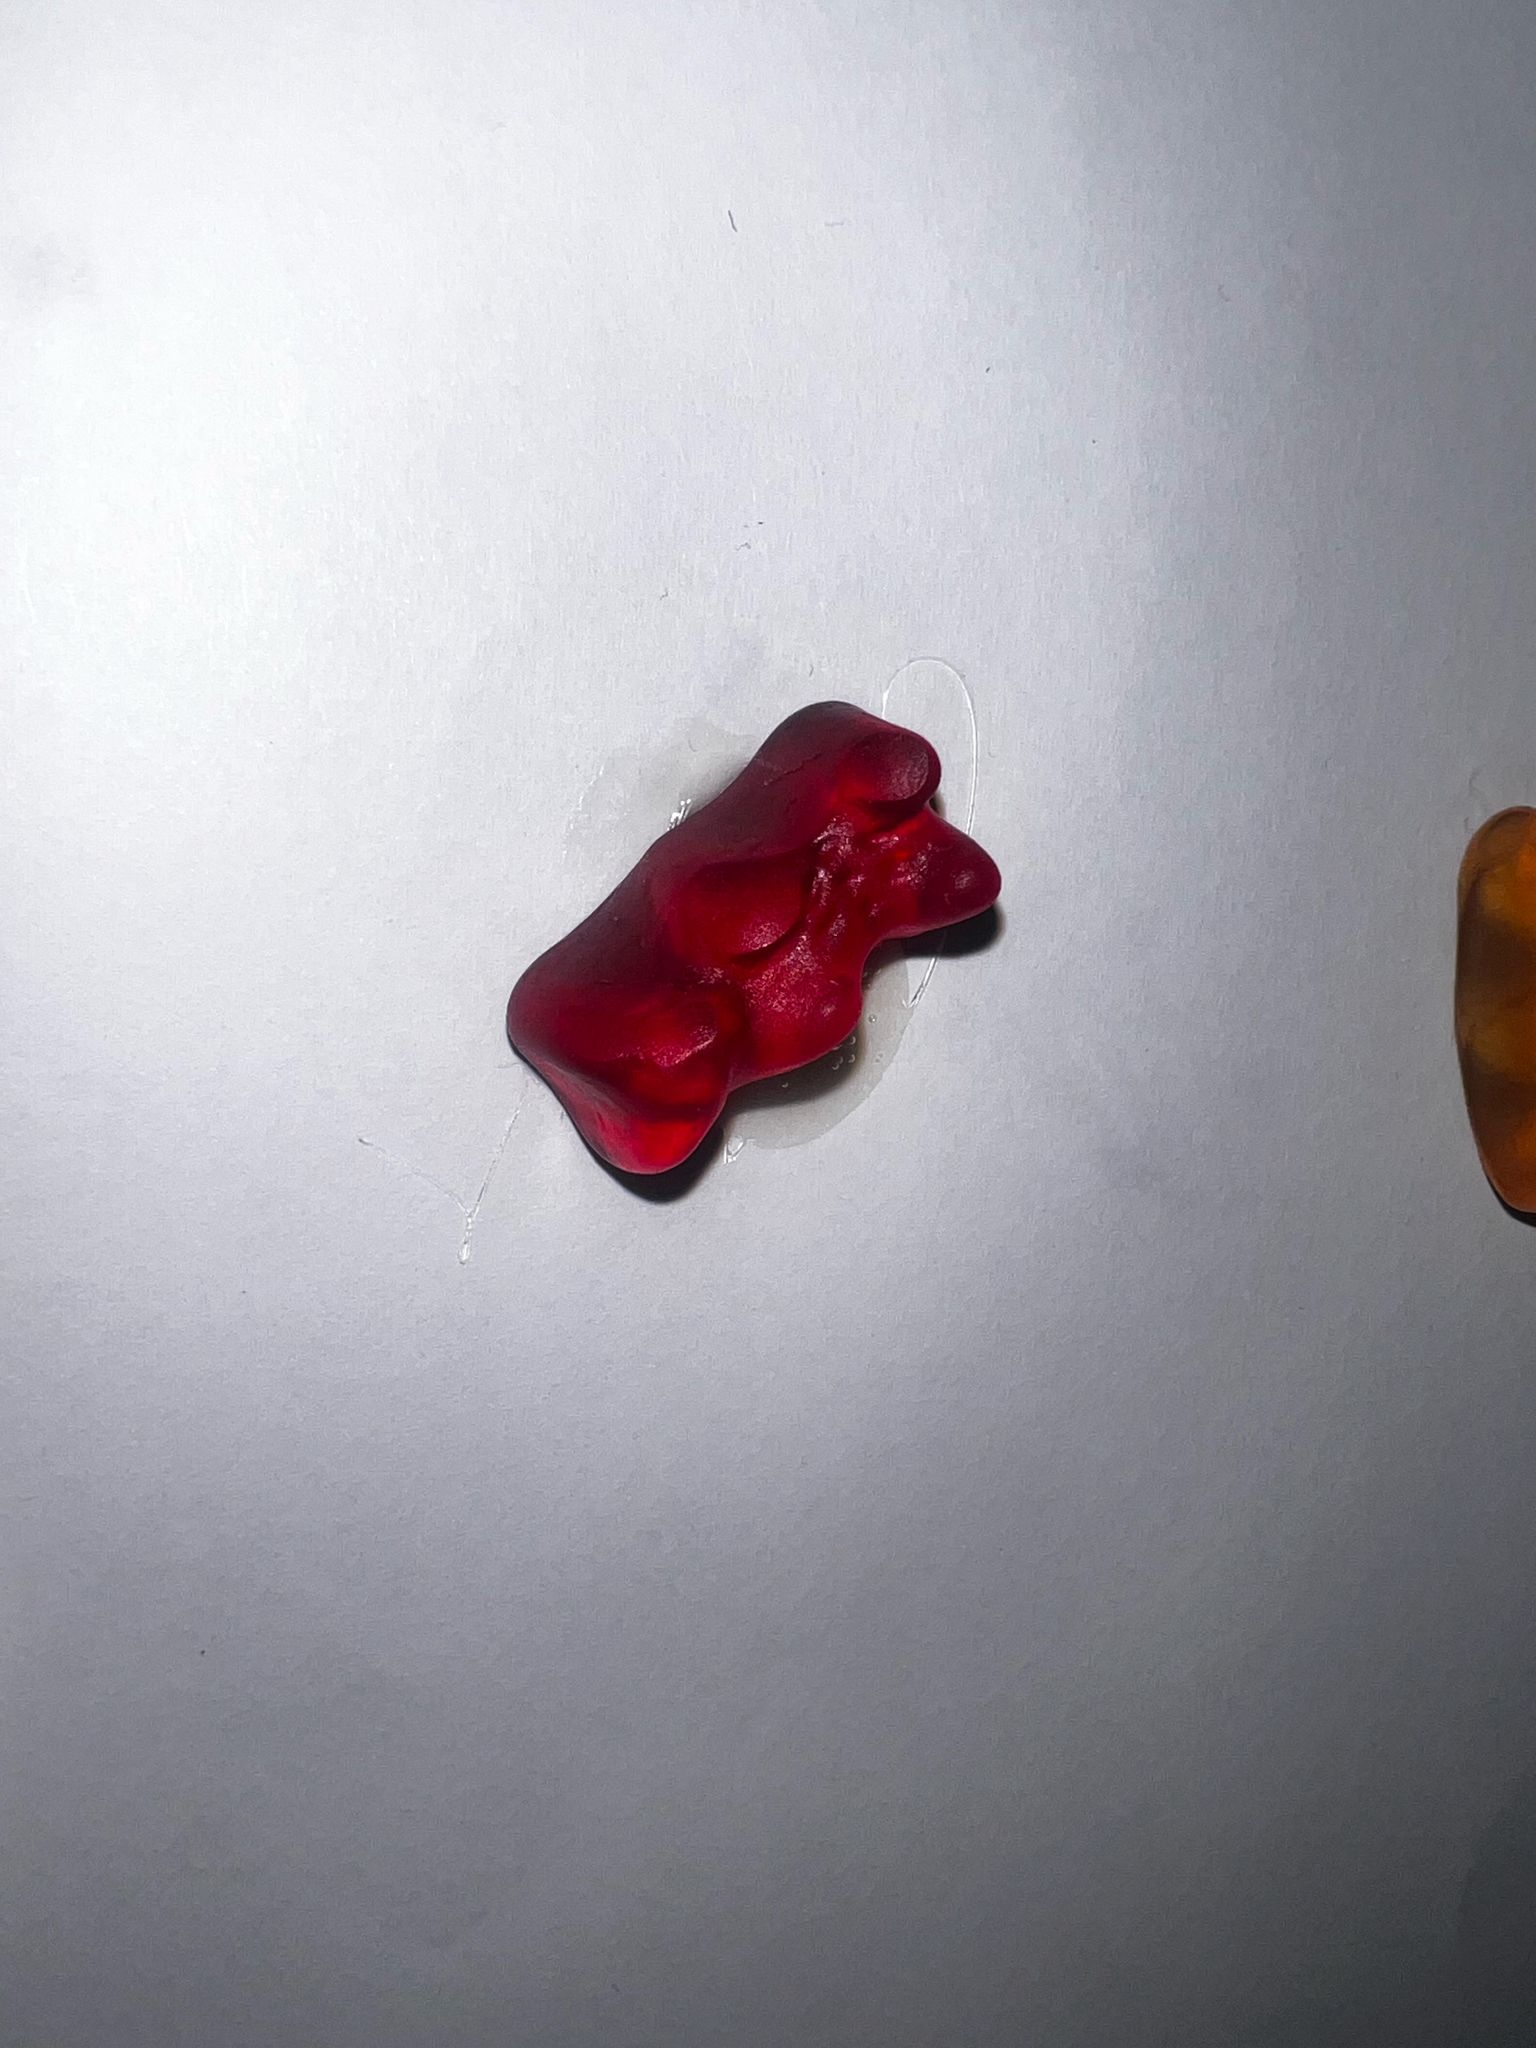gummybear: (502, 685, 1010, 1209)
